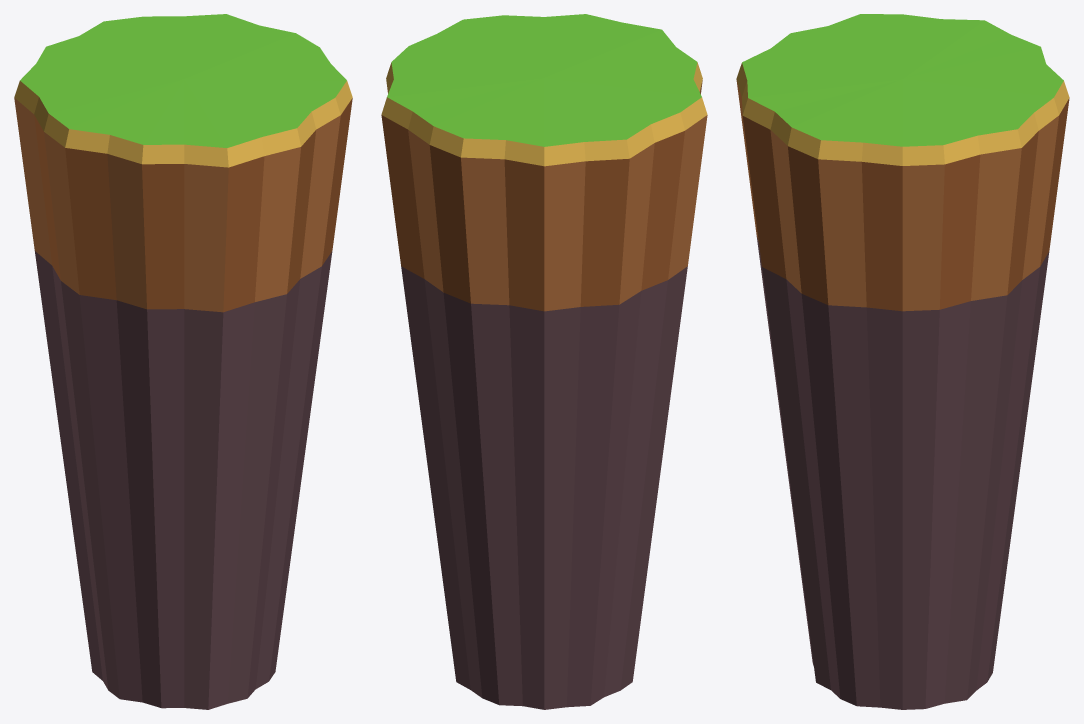
File: star_garden_island.obj
3 renders of one model, left to right at view 1: azimuth 30°, elevation 25°; view 2: azimuth 150°, elevation 25°; view 3: azimuth 270°, elevation 25°, orthographic.
Visible parts, largest first — view 1: star_garden_island; view 2: star_garden_island; view 3: star_garden_island.
Part boxes in pixels (<box>): star_garden_island: <box>14,14,352,709</box>; star_garden_island: <box>381,14,707,709</box>; star_garden_island: <box>736,14,1069,709</box>.
Bounding box in the file's own units: 2.07 × 4.28 × 2.13.
